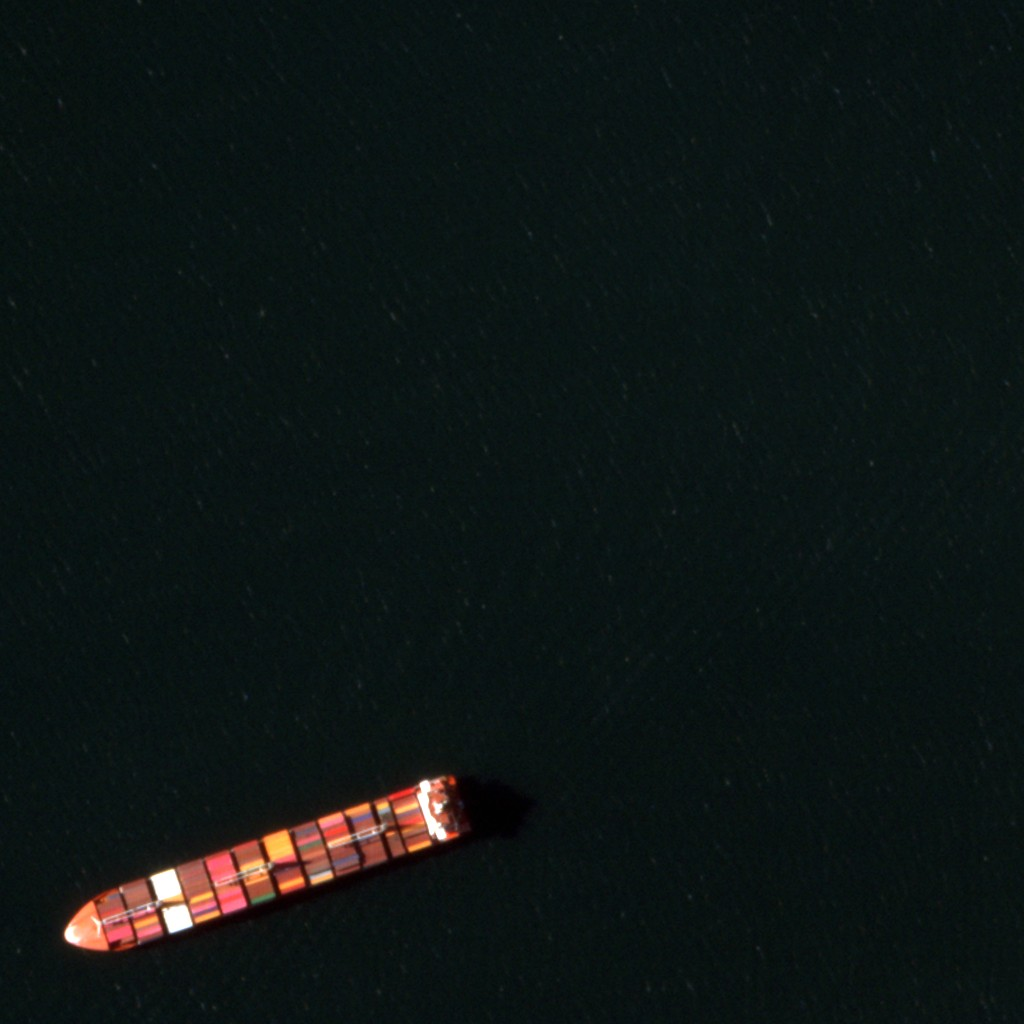boats: (58, 773, 456, 958)
